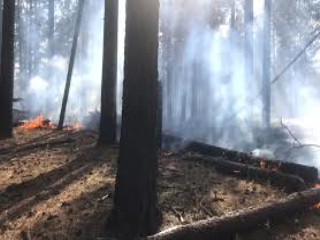fire: (18, 111, 83, 138)
smoke: (166, 22, 316, 159), (14, 10, 101, 106)
